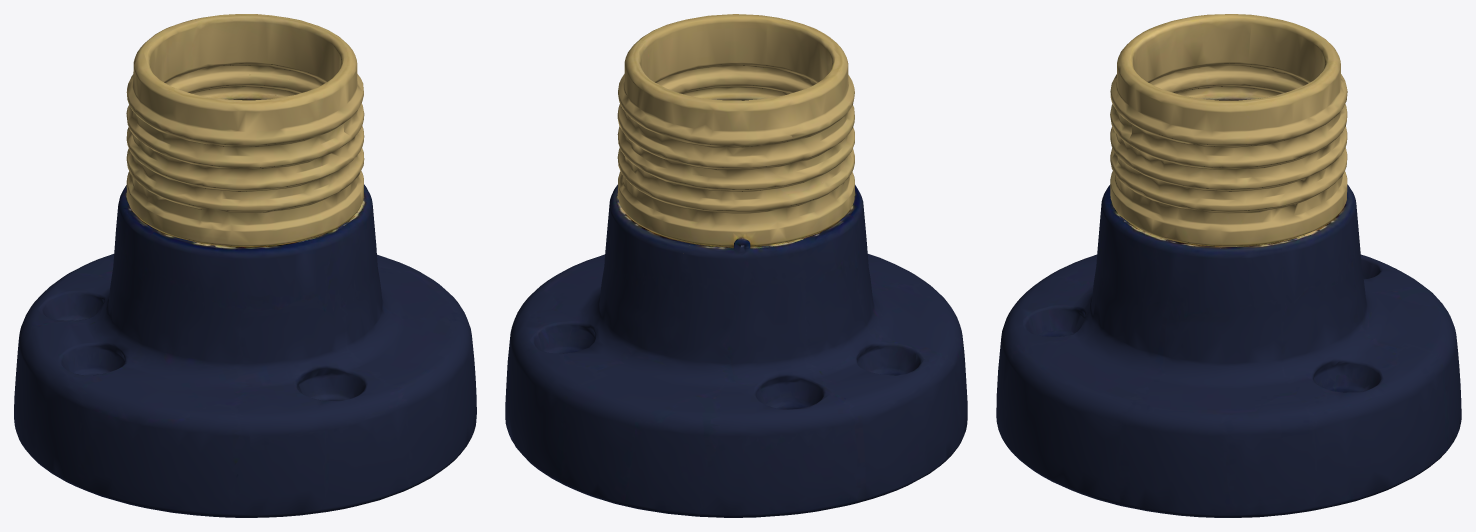
The model's file is socket.glb.
3 views of the same model, side by side, from view 1: azimuth 30°, elevation 25°; view 2: azimuth 150°, elevation 25°; view 3: azimuth 270°, elevation 25° (orthographic).
Parts seen in each view (by area): view 1: tripo_node_61efd492-f5d4-41d4-b7c6-8a6da561fffc; view 2: tripo_node_61efd492-f5d4-41d4-b7c6-8a6da561fffc; view 3: tripo_node_61efd492-f5d4-41d4-b7c6-8a6da561fffc.
Boxes of the visible parts, box(x1,y1,x2,y2) form: tripo_node_61efd492-f5d4-41d4-b7c6-8a6da561fffc: box(14, 14, 476, 517); tripo_node_61efd492-f5d4-41d4-b7c6-8a6da561fffc: box(505, 14, 967, 517); tripo_node_61efd492-f5d4-41d4-b7c6-8a6da561fffc: box(996, 14, 1461, 517).
Bounding box in the file's own units: 0.9989 × 0.862 × 1.
1 material, 1 textured.
